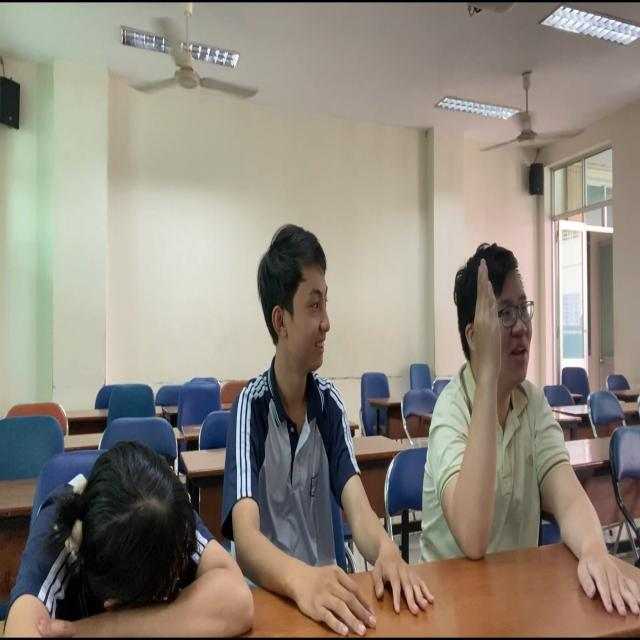raise_hand: (418, 224, 640, 640)
sleep: (1, 413, 302, 640)
